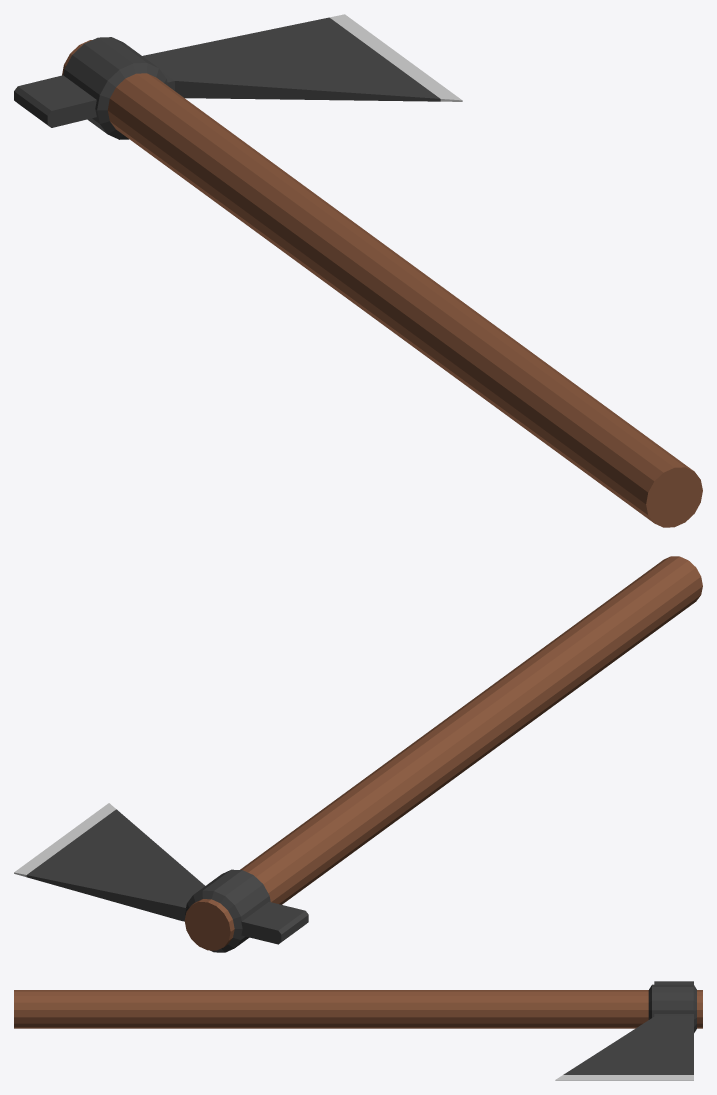
Rendered from Axe.glb.
3 views of the same model, one above another, from view 1: azimuth 30°, elevation 25°; view 2: azimuth 150°, elevation 25°; view 3: azimuth 270°, elevation 25° (orthographic). The views are drawn at different scales.
Visible parts, largest first — view 1: Axe; view 2: Axe; view 3: Axe.
Boxes of the visible parts, x1=… form: Axe: x1=14, y1=14, x2=702, y2=527; Axe: x1=14, y1=556, x2=702, y2=952; Axe: x1=14, y1=981, x2=702, y2=1080.
Bounding box in the file's own units: 3.25 × 0.7118 × 9.93.
Materials: 1 (1 with a texture image).
